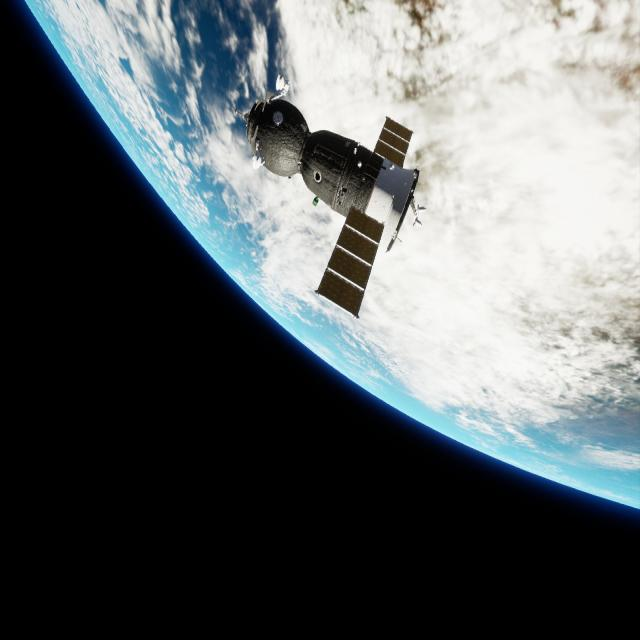Satellites revolving around earth: (238, 85, 426, 322)
